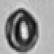correct: (4, 5, 42, 52)
